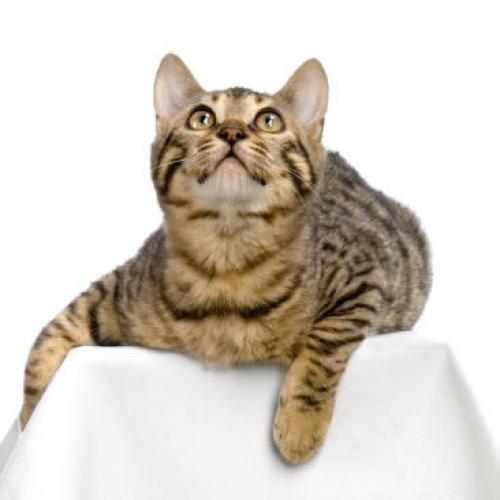bengal: (140, 44, 339, 240)
